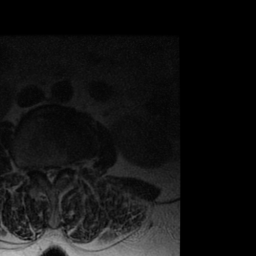CCS_stenosis: (48, 160, 54, 190)
LFS_severe_stenosis: (61, 157, 68, 179)
LLS_stenosis: (54, 159, 60, 179)
RFS_severe_stenosis: (33, 157, 42, 178)
RLS_severe_stenosis: (41, 160, 48, 179)
